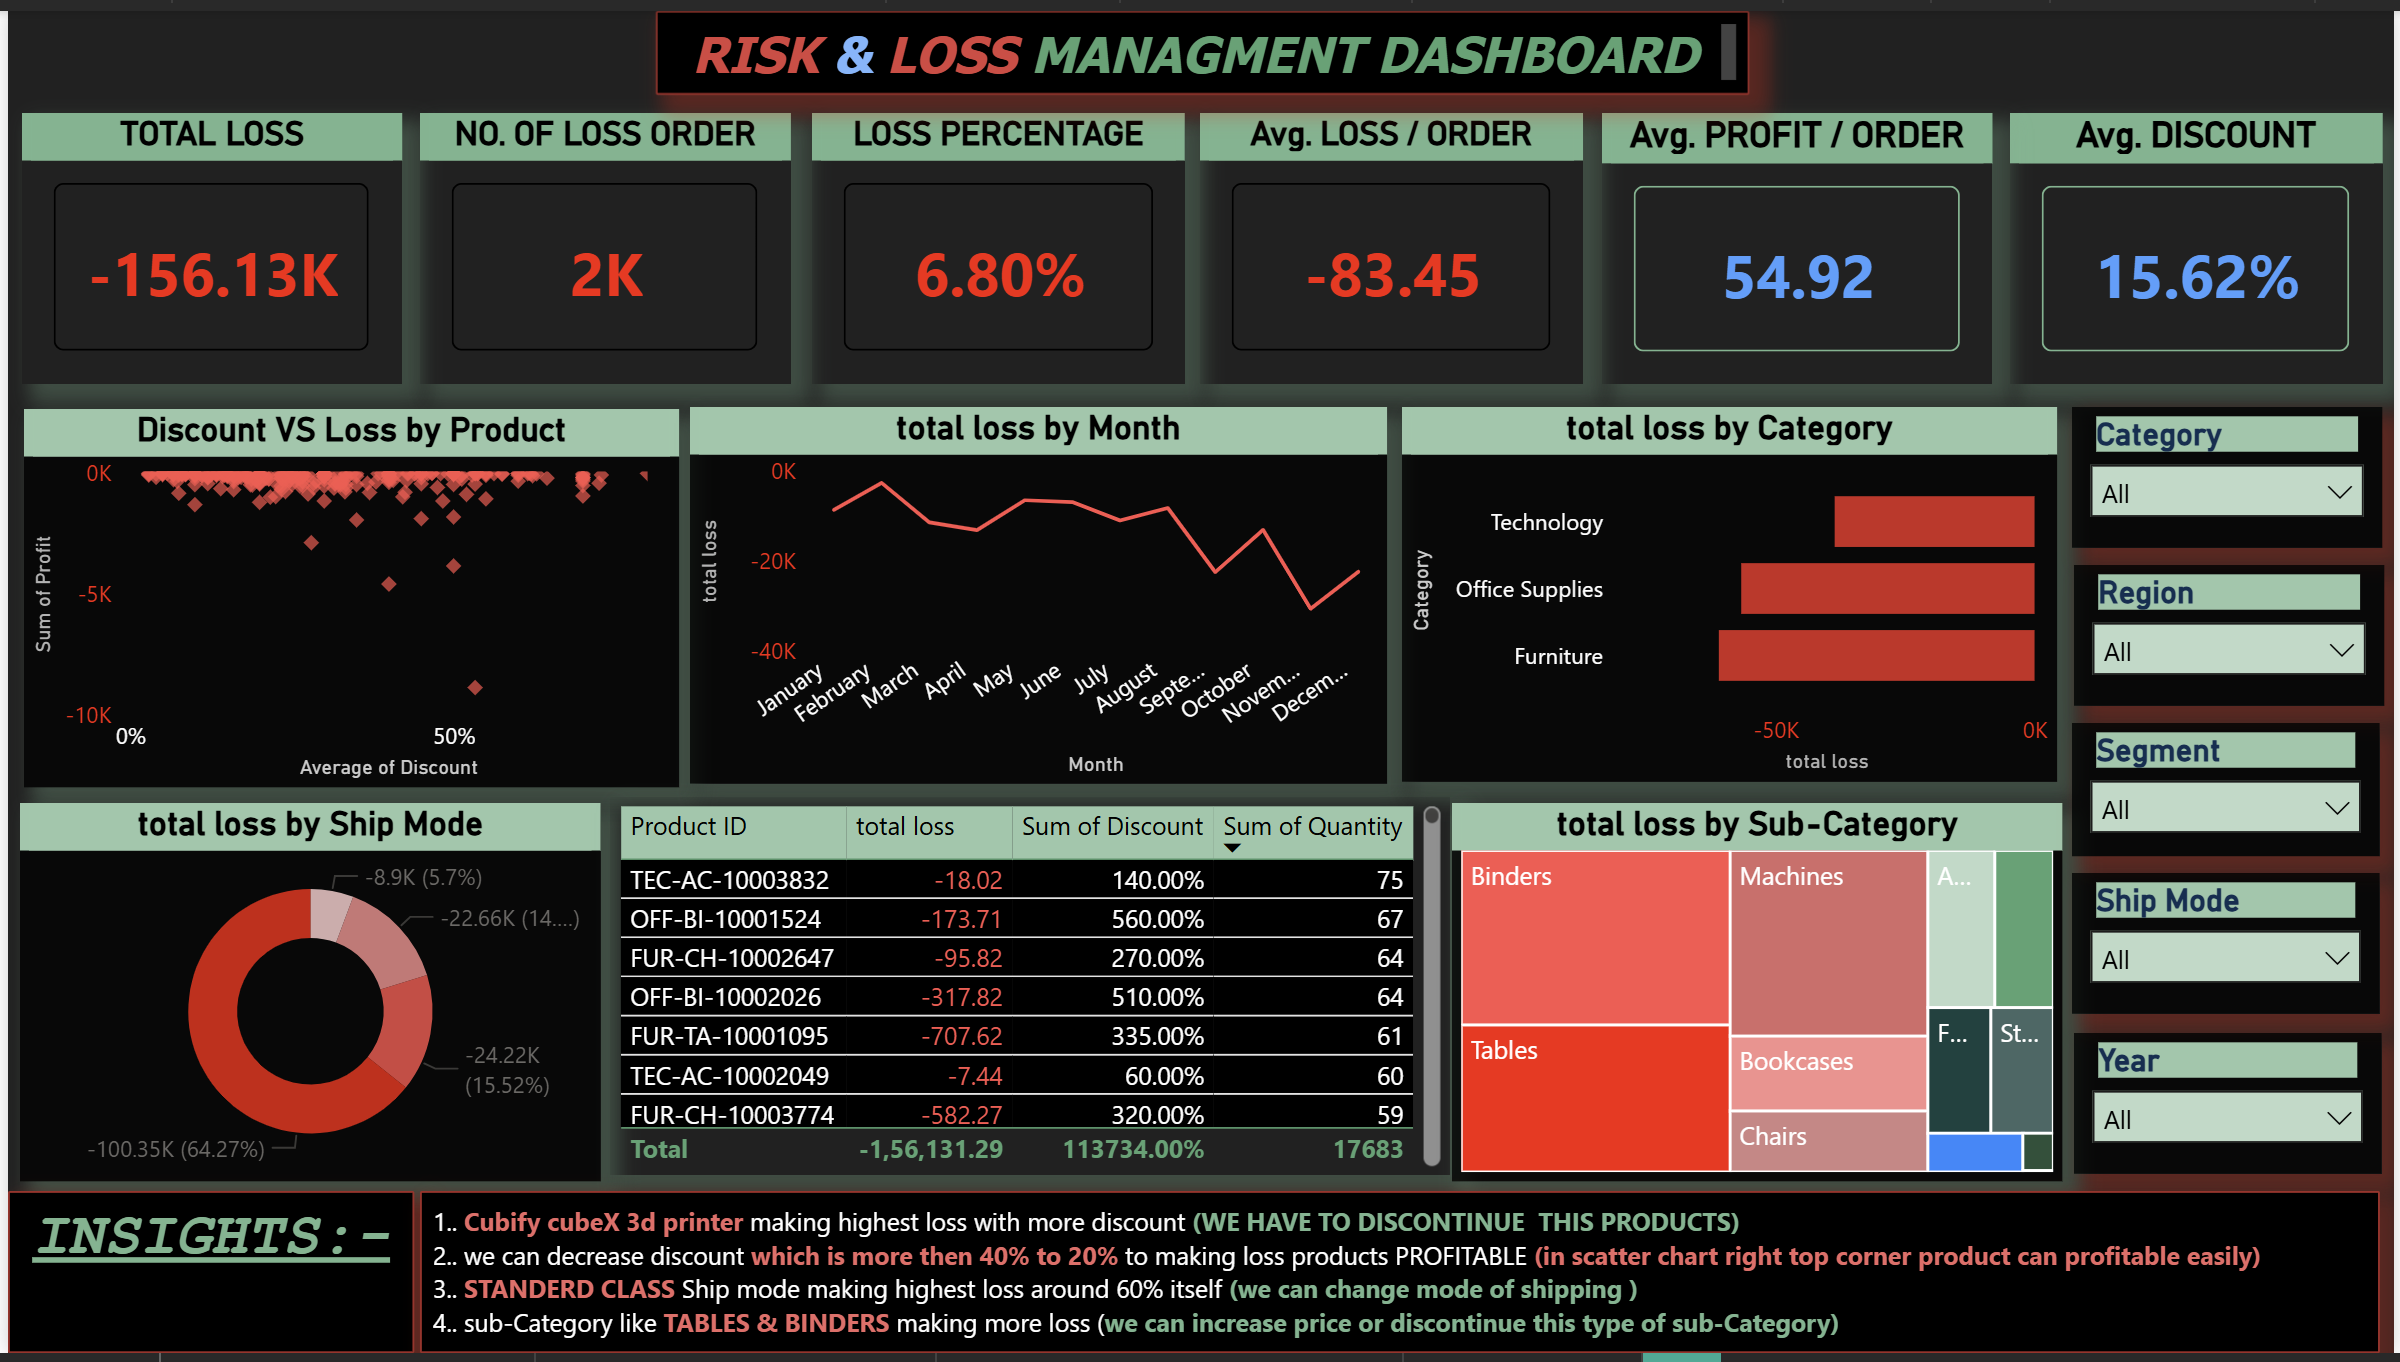

This screenshot's page, from the dashboard's own definition file:
{"tool":"powerbi","page":{"name":"Risk & Loss Manegment Dashboard","canvas":[1280,720],"ordinal":2},"visuals":[{"type":"cardVisual","title":"TOTAL LOSS","fields":{"Data":["Sample - Superstore csv.total loss"]},"box":[7.6,54.8,204,145.3],"z":0},{"type":"cardVisual","title":"NO. OF LOSS ORDER","fields":{"Data":["Sample - Superstore csv.NO. LOSS ORDERS"]},"box":[220.6,54.8,198.9,145.3],"z":1000},{"type":"cardVisual","title":"LOSS PERCENTAGE","fields":{"Data":["Sample - Superstore csv.LOSS %"]},"box":[430.9,54.8,200.2,145.3],"z":2000},{"type":"cardVisual","title":"Avg. LOSS / ORDER","fields":{"Data":["Sample - Superstore csv.avg. loss / orders"]},"box":[640,54.8,205.3,145.3],"z":3000},{"type":"cardVisual","title":"Avg. DISCOUNT","fields":{"Data":["Avg(Sample - Superstore csv.Discount)"]},"box":[1073.9,54.3,199.8,145.4],"z":4000},{"type":"cardVisual","title":"Avg. PROFIT / ORDER","fields":{"Data":["Sample - Superstore csv.avg. profit/order"]},"box":[854.9,54.3,209.3,145.4],"z":5000},{"type":"scatterChart","title":"Discount VS Loss by Product ","fields":{"Y":["Sum(Sample - Superstore csv.Profit)"],"X":["Avg(Sample - Superstore csv.Discount)"],"Category":["Sample - Superstore csv.Product Name"]},"box":[8.6,213.3,351.6,202.9],"z":6000},{"type":"lineChart","fields":{"Category":["Sample - Superstore csv.Order Date.Variation.Date Hierarchy.Year","Sample - Superstore csv.Order Date.Variation.Date Hierarchy.Month"],"Y":["Sample - Superstore csv.total loss"]},"box":[365.9,212.7,373.8,202.1],"z":7000},{"type":"barChart","fields":{"Category":["Sample - Superstore csv.Category"],"Y":["Sample - Superstore csv.total loss"]},"box":[747.7,212.7,351.4,200.8],"z":8000},{"type":"donutChart","title":"total loss  by Ship Mode","fields":{"Category":["Sample - Superstore csv.Ship Mode"],"Y":["Sample - Superstore csv.total loss"]},"box":[6.4,425.1,311.6,202.9],"z":9000},{"type":"tableEx","fields":{"Values":["Sample - Superstore csv.Product ID","Sample - Superstore csv.total loss","Sum(Sample - Superstore csv.Discount)","Sum(Sample - Superstore csv.Quantity)"]},"box":[322.8,421.9,450.6,202.9],"z":10000},{"type":"treemap","fields":{"Group":["Sample - Superstore csv.Sub-Category"],"Values":["Sample - Superstore csv.total loss"]},"box":[775,425.1,327.6,202.9],"z":11000},{"type":"slicer","fields":{"Values":["Sample - Superstore csv.Category"]},"box":[1107,212.7,166.4,75.3],"z":12000},{"type":"slicer","fields":{"Values":["Sample - Superstore csv.Region"]},"box":[1108.3,297.2,166.4,75.3],"z":13000},{"type":"slicer","fields":{"Values":["Sample - Superstore csv.Segment"]},"box":[1107,381.8,165.1,71.3],"z":14000},{"type":"slicer","fields":{"Values":["Sample - Superstore csv.Ship Mode"]},"box":[1107,462.3,165.1,75.3],"z":15000},{"type":"slicer","fields":{"Values":["Sample - Superstore csv.Order Date.Variation.Date Hierarchy.Year"]},"box":[1108.3,548.2,165.1,75.3],"z":16000},{"type":"textbox","box":[347.4,0,586.5,44.9],"z":17000},{"type":"textbox","box":[0,632.7,218,87.2],"z":18000},{"type":"textbox","box":[220.6,632.7,1051.5,87.2],"z":19000}]}

Visuals, with their boxes in screenshot pixels (x1, y1, x2, y2), scaled from the page's 1280x720 canvas onto the 2400x1362 screenshot:
"TOTAL LOSS" cardVisual: [14,104,397,379]
"NO. OF LOSS ORDER" cardVisual: [414,104,787,379]
"LOSS PERCENTAGE" cardVisual: [808,104,1183,379]
"Avg. LOSS / ORDER" cardVisual: [1200,104,1585,379]
"Avg. DISCOUNT" cardVisual: [2014,103,2388,378]
"Avg. PROFIT / ORDER" cardVisual: [1603,103,1995,378]
"Discount VS Loss by Product " scatterChart: [16,403,675,787]
lineChart - Sample - Superstore csv.Order Date.Variation.Date Hierarchy.Year x Sample - Superstore csv.Order Date.Variation.Date Hierarchy.Month: [686,402,1387,785]
barChart - Sample - Superstore csv.Category x Sample - Superstore csv.total loss: [1402,402,2061,782]
"total loss  by Ship Mode" donutChart: [12,804,596,1188]
tableEx - Sample - Superstore csv.Product ID x Sample - Superstore csv.total loss: [605,798,1450,1182]
treemap - Sample - Superstore csv.Sub-Category x Sample - Superstore csv.total loss: [1453,804,2067,1188]
slicer - Sample - Superstore csv.Category: [2076,402,2388,545]
slicer - Sample - Superstore csv.Region: [2078,562,2390,705]
slicer - Sample - Superstore csv.Segment: [2076,722,2385,857]
slicer - Sample - Superstore csv.Ship Mode: [2076,875,2385,1017]
slicer - Sample - Superstore csv.Order Date.Variation.Date Hierarchy.Year: [2078,1037,2388,1179]
textbox: [651,0,1751,85]
textbox: [0,1197,409,1361]
textbox: [414,1197,2385,1361]
